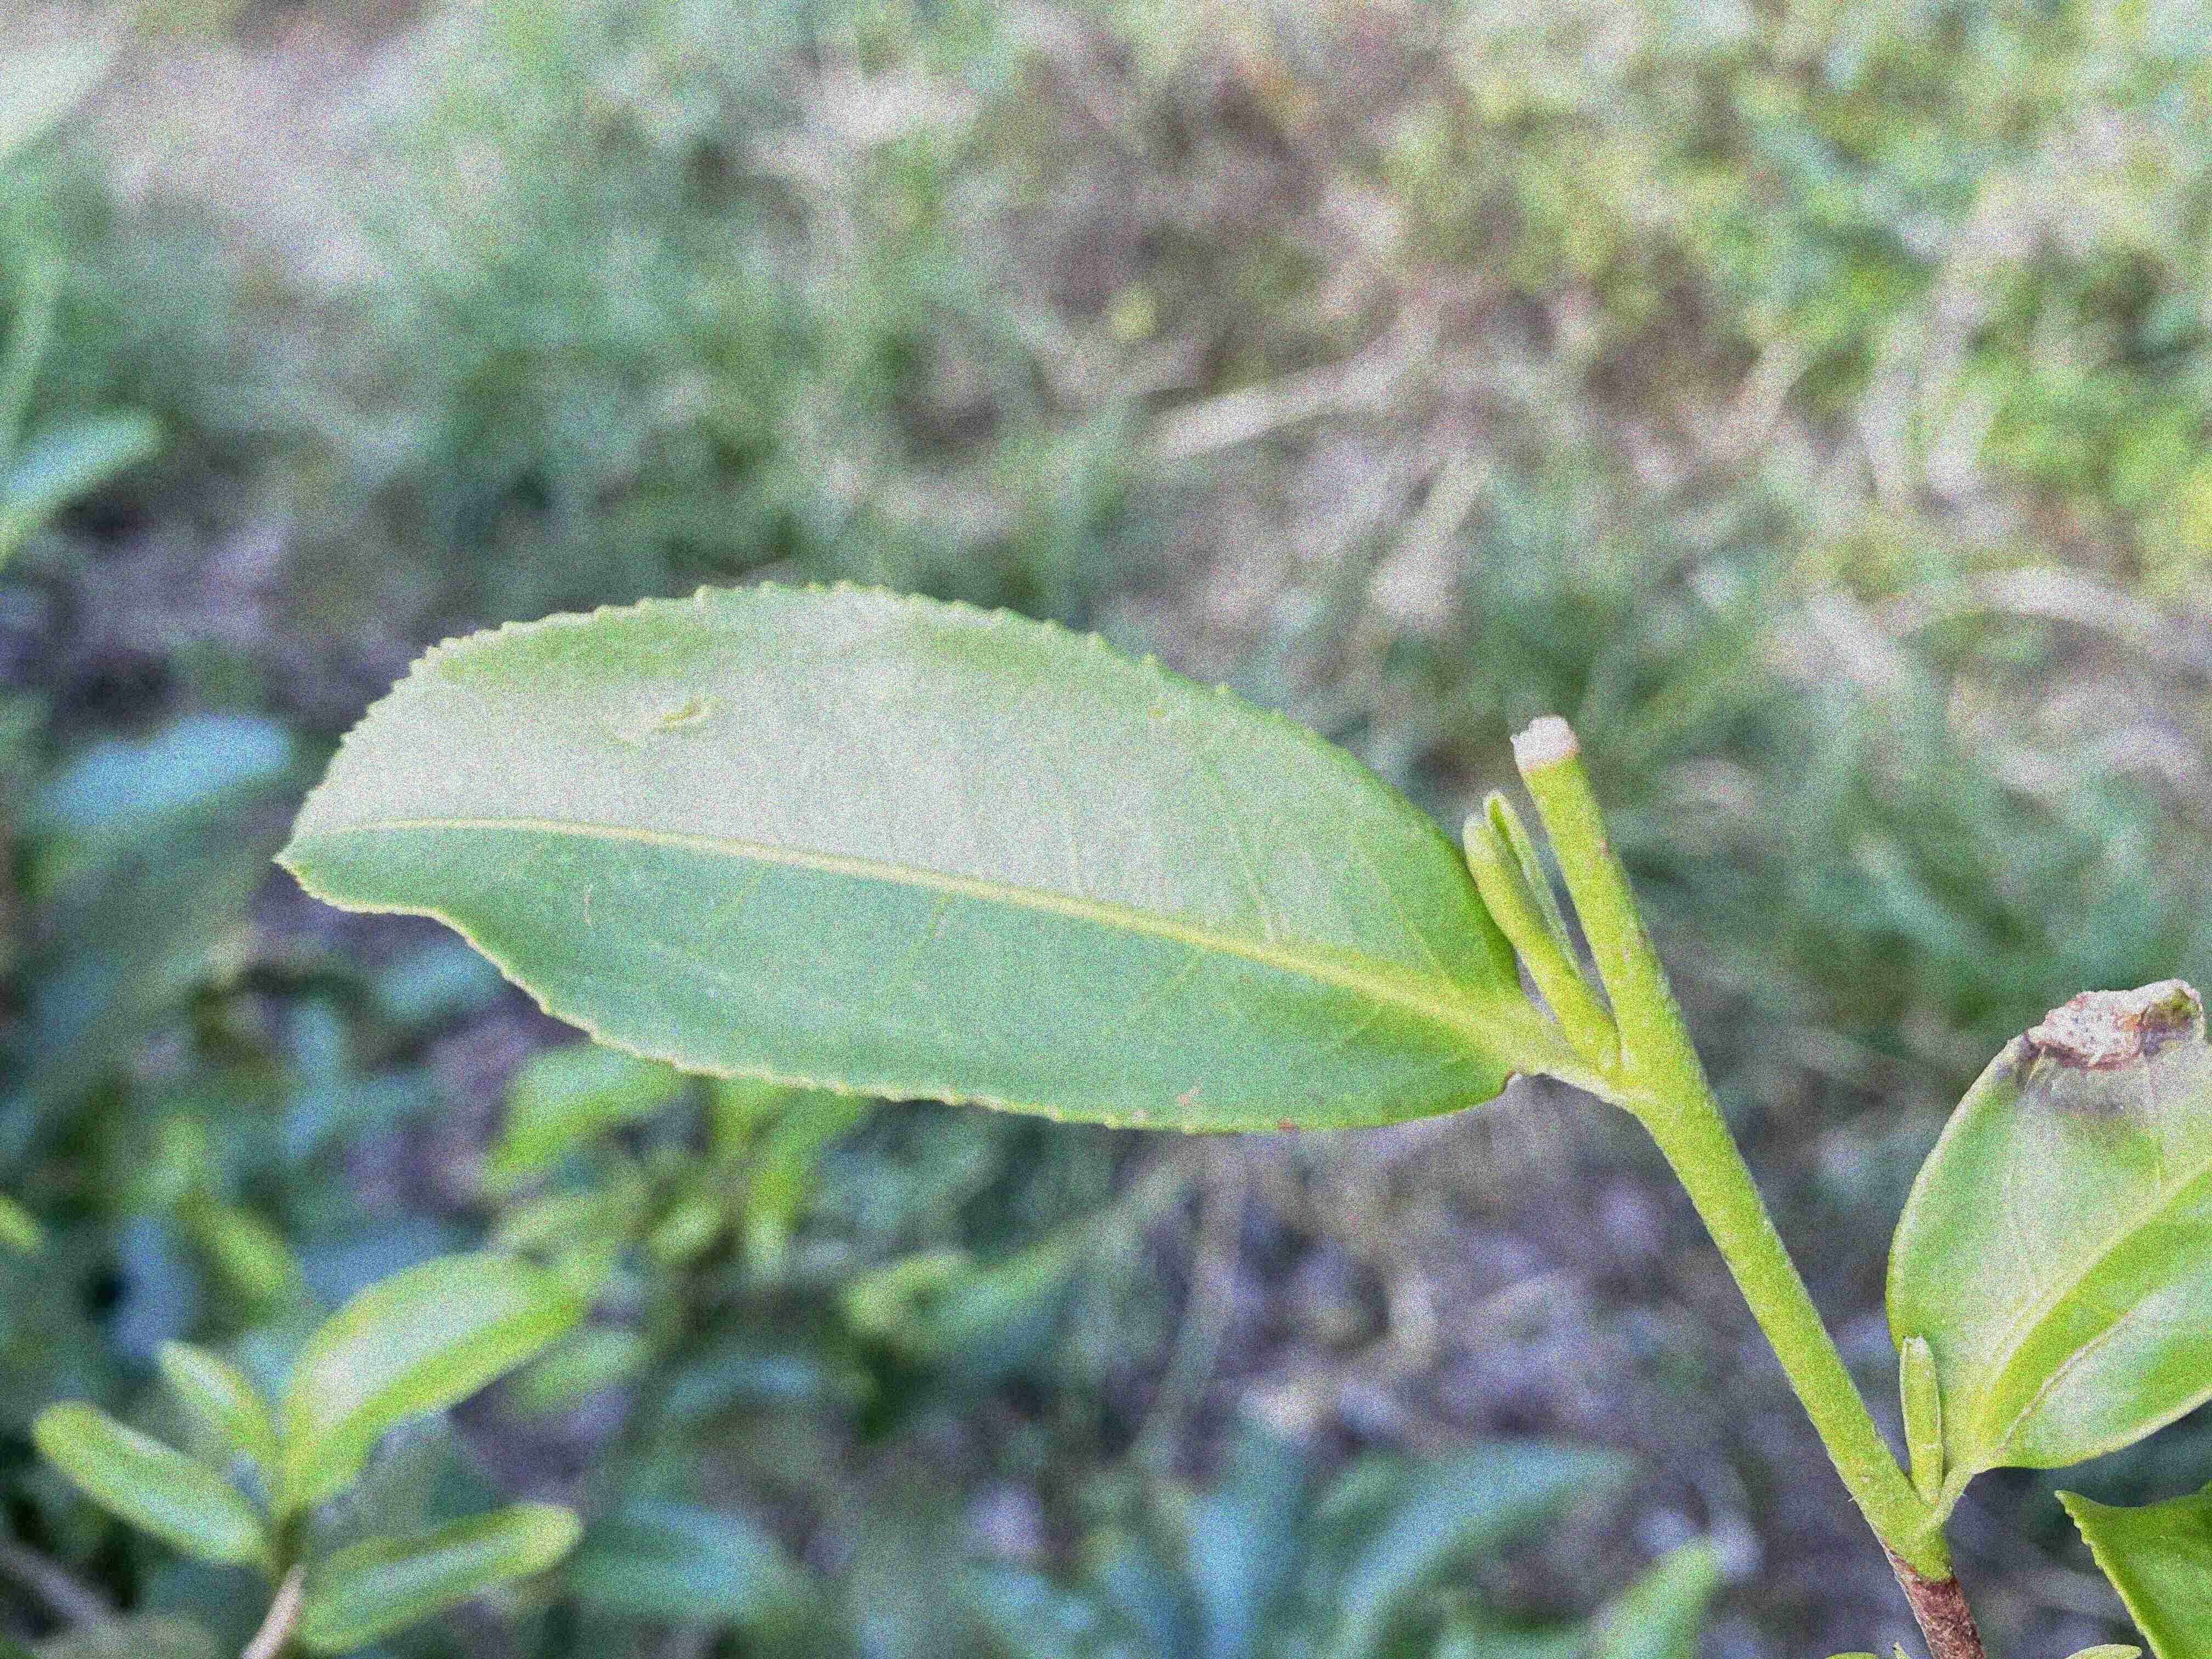tanju_high: (1879, 978, 2209, 1473)
tanju_low: (266, 577, 1541, 1141)
